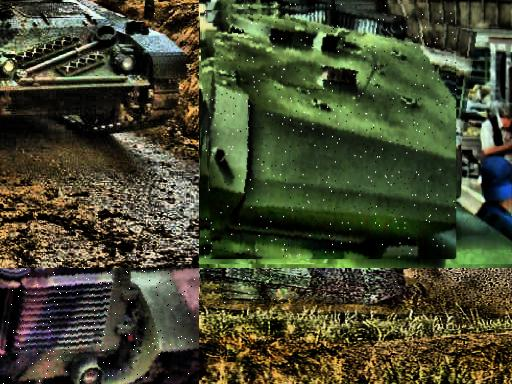tanks: (205, 6, 457, 259), (1, 1, 188, 134), (1, 269, 200, 384), (201, 271, 407, 304), (357, 226, 456, 265), (459, 240, 478, 265), (147, 1, 156, 19), (346, 256, 353, 265)
